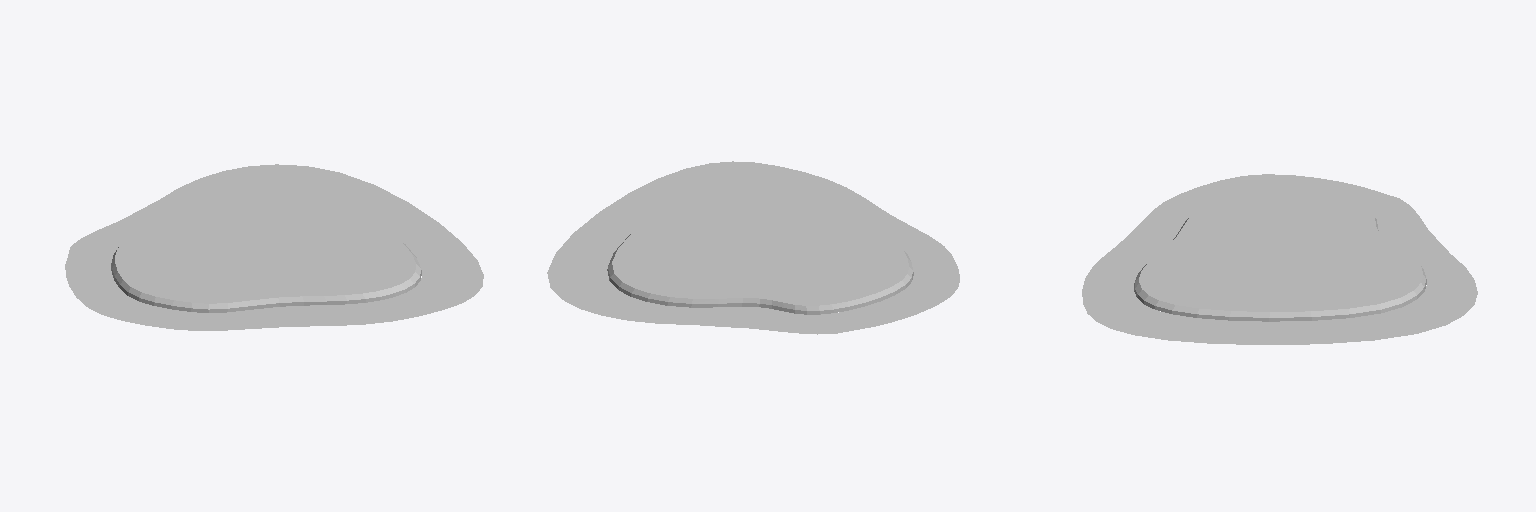
3 views of the same model, side by side, from view 1: azimuth 30°, elevation 25°; view 2: azimuth 150°, elevation 25°; view 3: azimuth 270°, elevation 25° (orthographic).
Parts seen in each view (by area): view 1: 5_Curve.025, 7_foam_Curve.005; view 2: 5_Curve.025, 7_foam_Curve.005; view 3: 5_Curve.025, 7_foam_Curve.005.
Part boxes in pixels (x1,y1,x2,y2): 5_Curve.025: (111,184,421,312); 7_foam_Curve.005: (65,164,483,330); 5_Curve.025: (607,183,913,314); 7_foam_Curve.005: (547,161,959,334); 5_Curve.025: (1134,189,1426,321); 7_foam_Curve.005: (1082,174,1477,344).
Size of the model in its own units: 47.93 by 0.9966 by 46.88.